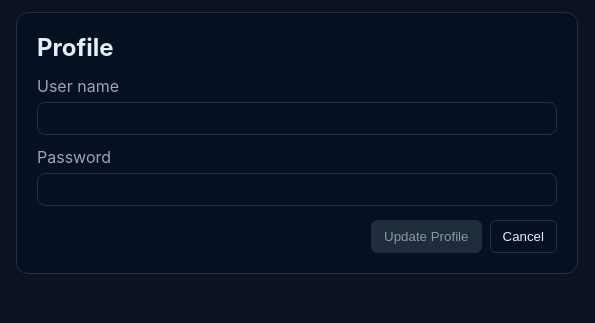
Test case: ProfileComponent › Fails to update user
This screenshot has width=595, height=323.
Type "alice" into the field labelled "User name" at (297, 118), box [37, 102, 557, 135]
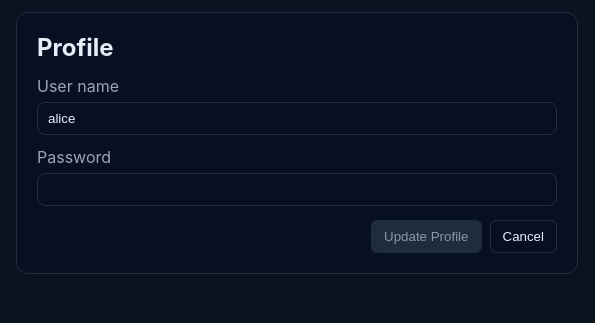
Type "bad" into the password field labelled "Password" at (297, 190), box [37, 173, 557, 206]
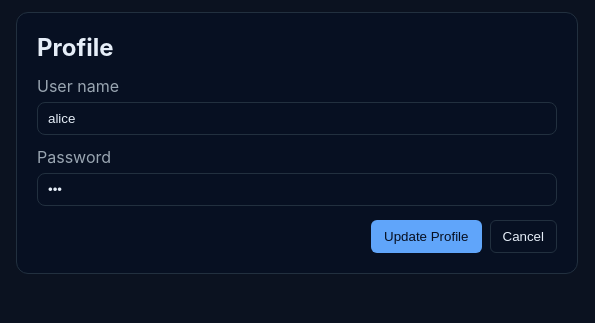
Click the button "Update Profile" at (426, 236), box [371, 220, 482, 253]
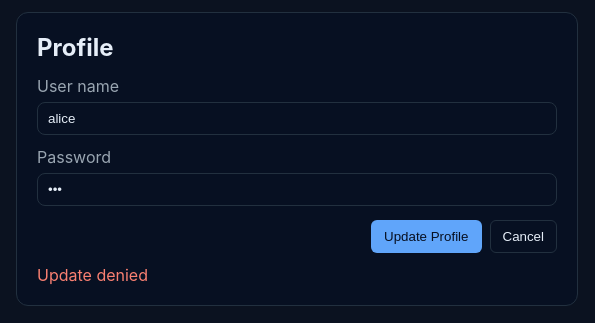
Check: the text "Update denied" is shown, box [37, 265, 148, 285]
